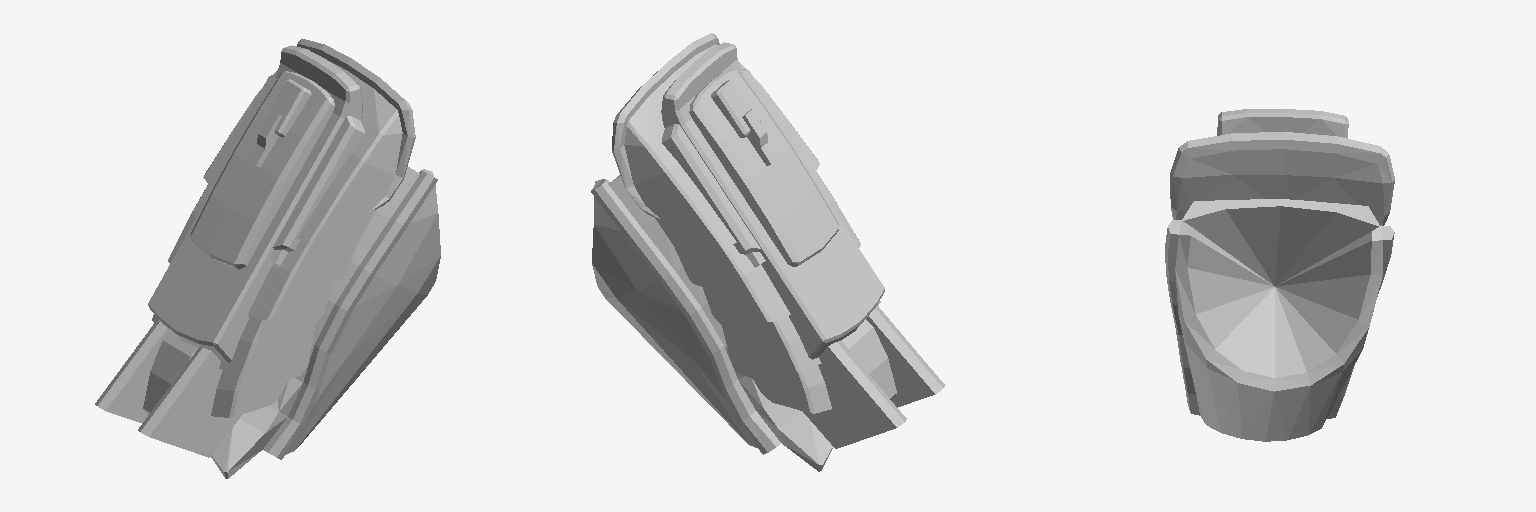
File: p2_armconsole.obj
3 renders of one model, left to right at view 1: azimuth 30°, elevation 25°; view 2: azimuth 150°, elevation 25°; view 3: azimuth 270°, elevation 25°, orthographic.
Parts seen in each view (by area): view 1: 24_Predatorbody2_0.5_0_0.003; view 2: 24_Predatorbody2_0.5_0_0.003; view 3: 24_Predatorbody2_0.5_0_0.003.
Part boxes in pixels (x1,y1,x2,y2): 24_Predatorbody2_0.5_0_0.003: (95,39,440,478); 24_Predatorbody2_0.5_0_0.003: (591,33,944,471); 24_Predatorbody2_0.5_0_0.003: (1165,109,1394,441).
Bounding box in the file's own units: 1.17 × 1.34 × 0.7873.